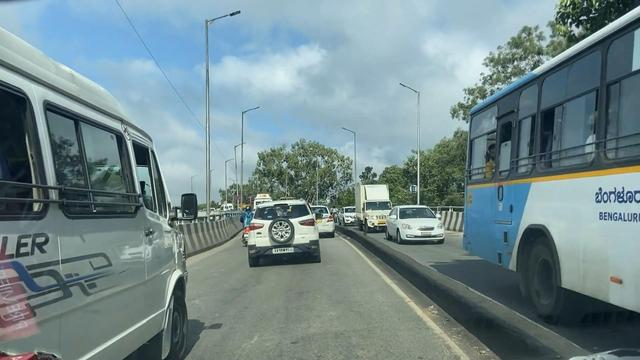LMV: (247, 202, 321, 258)
